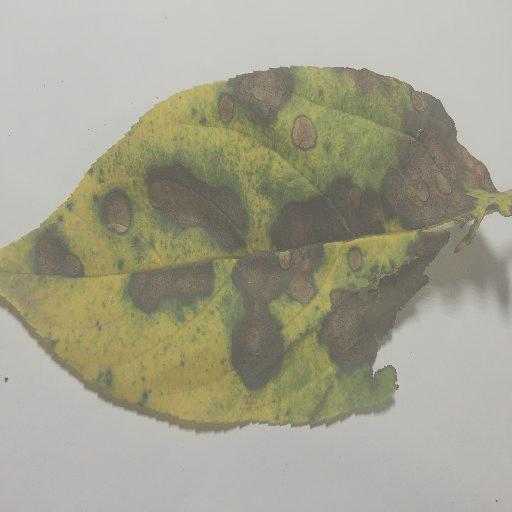Brown_Spot: (323, 237, 439, 369), (380, 105, 479, 217), (269, 179, 392, 246), (151, 166, 247, 247), (234, 264, 276, 383), (121, 277, 214, 314), (235, 73, 287, 120), (278, 244, 315, 307), (31, 239, 83, 277), (100, 191, 127, 236), (289, 113, 315, 152), (218, 93, 233, 128), (347, 247, 362, 278)
